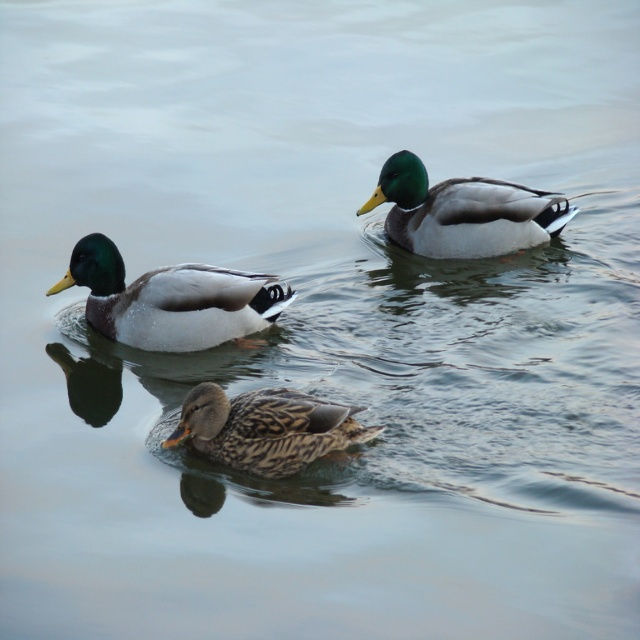Duck: (42, 235, 299, 377), (349, 151, 579, 263), (163, 382, 387, 491)
